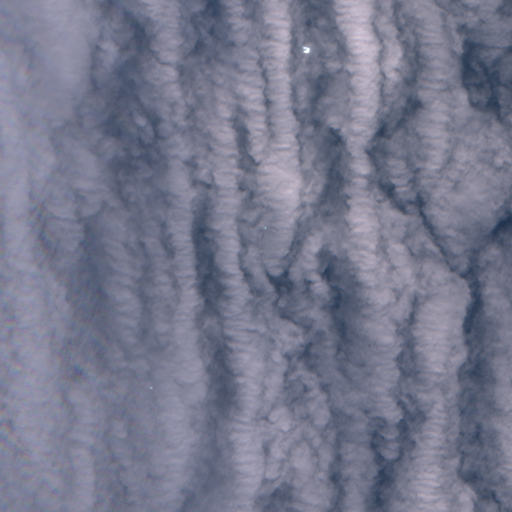Iceberg: (303, 47, 309, 52), (264, 227, 266, 228), (150, 387, 152, 388)
